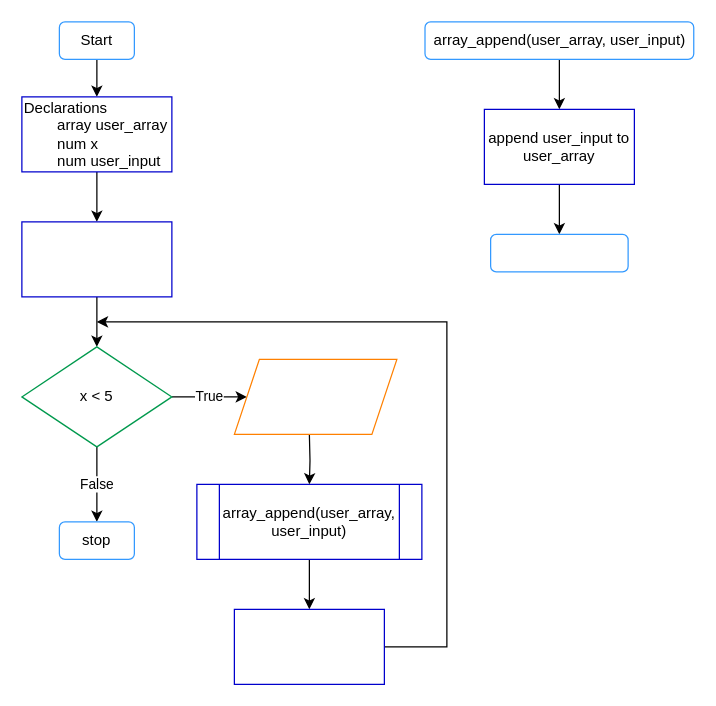
This 716x706 diagram has some shape labels left out. Here are the shapes that lost their labels. From the top down, the centre of each, then its label:
[96,259]: x = 0
[558,252]: return user_array
[315,396]: input user_input
[308,646]: x++
